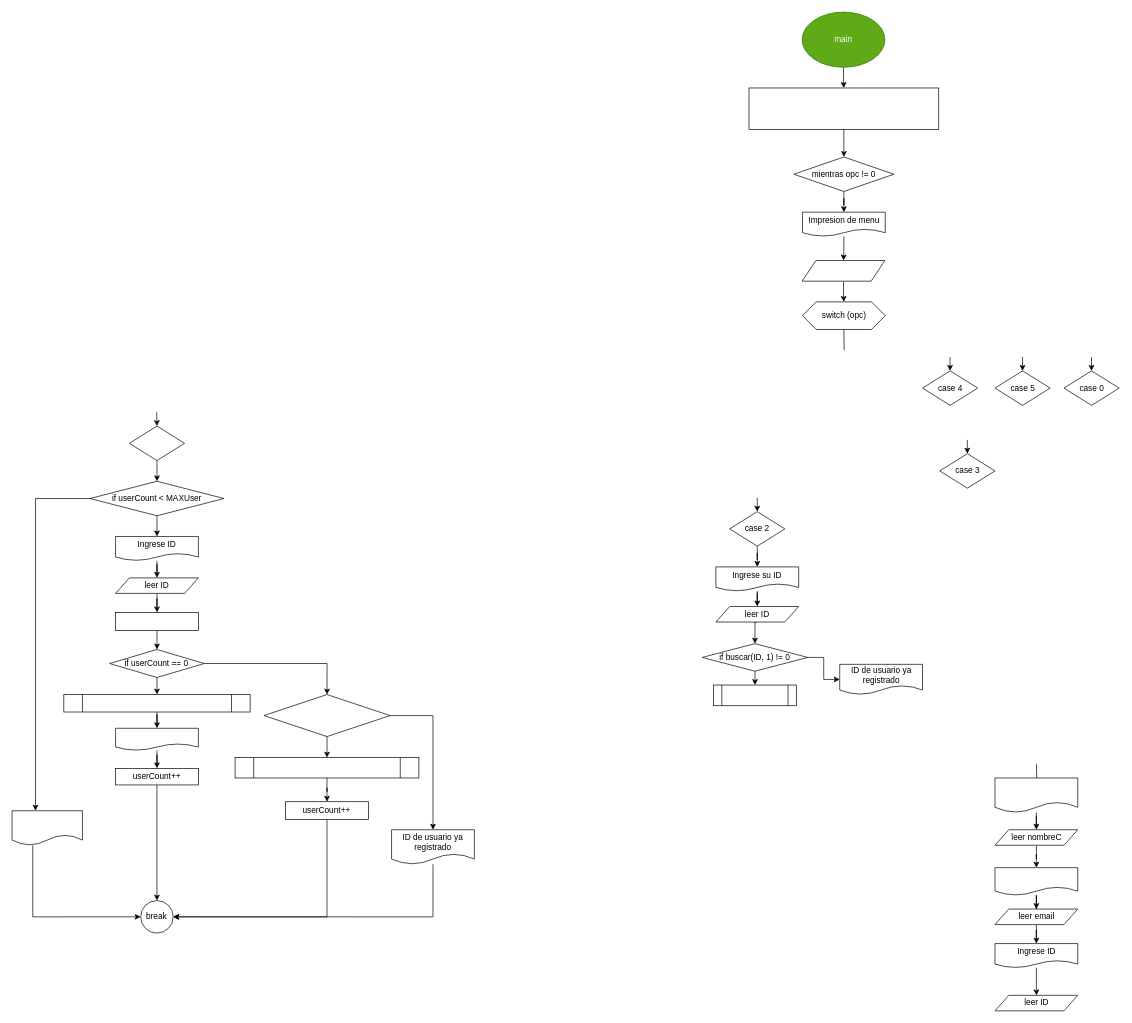
The diagram is 1132 pixels wide and 1023 high, and some of its shapes have lost their labels. Here are the shapes that lost their labels. From the top down, the box of each, then its label:
(748, 87, 939, 129): int opc = 1, userCount = 0, pos = 0 char dato[50], clear
(801, 260, 885, 281): leer opc
(129, 425, 185, 461): case 1
(115, 612, 198, 630): limpiar buffer
(63, 694, 250, 712): registro (dato, userCount, users, clear)
(713, 684, 796, 706): registro(ID)
(263, 694, 390, 737): else if buscar(dato, userCount, users, 0) != 0
(115, 728, 198, 750): Registro exitoso!!
(234, 757, 419, 778): registro(dato, userCount, users, clear)
(994, 777, 1078, 812): Ingrese su nombre completo
(11, 810, 82, 845): Limite de usuarios agregados
(994, 867, 1078, 895): Ingrese su correo electronico
